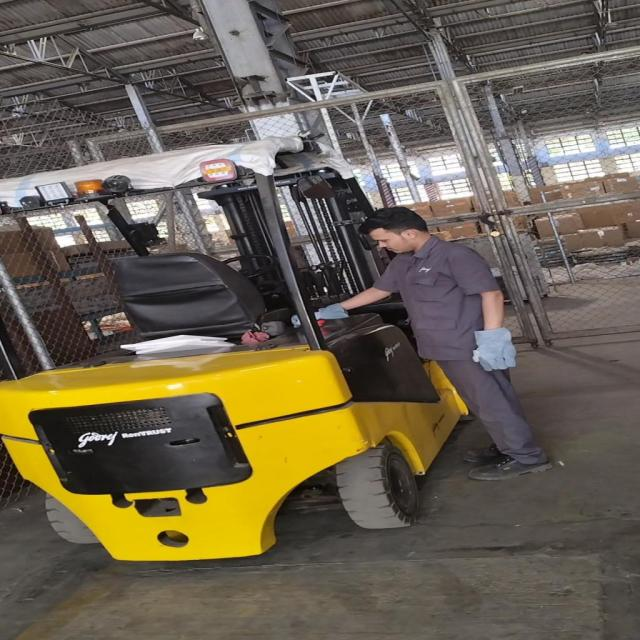Gloves-Detection: (469, 330, 516, 379), (305, 300, 346, 328)
